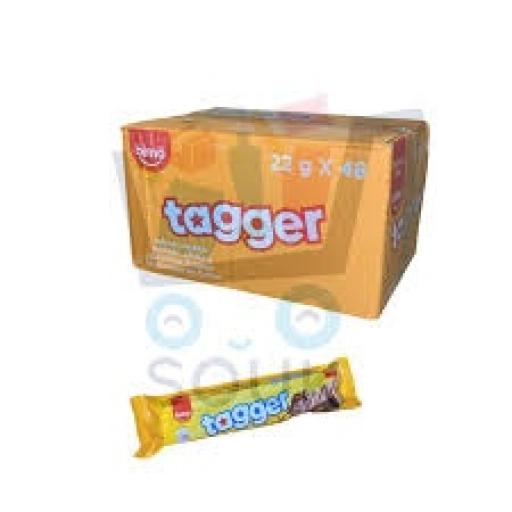tagger: (89, 342, 437, 497)
